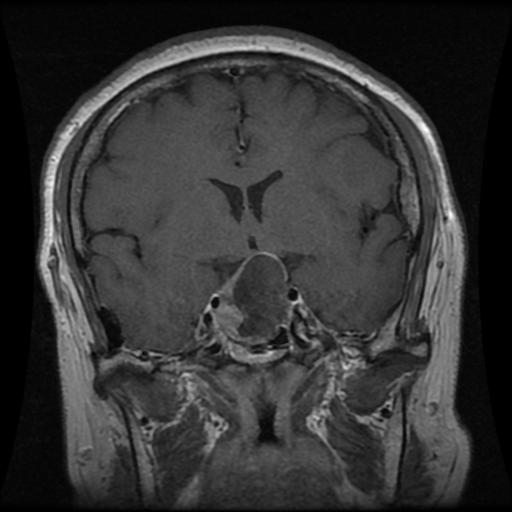Pituirity_tumour: (222, 249, 290, 343)
